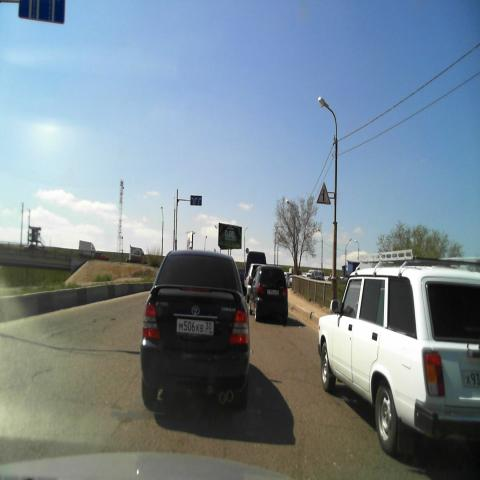2_3_3: (316, 182, 331, 205)
